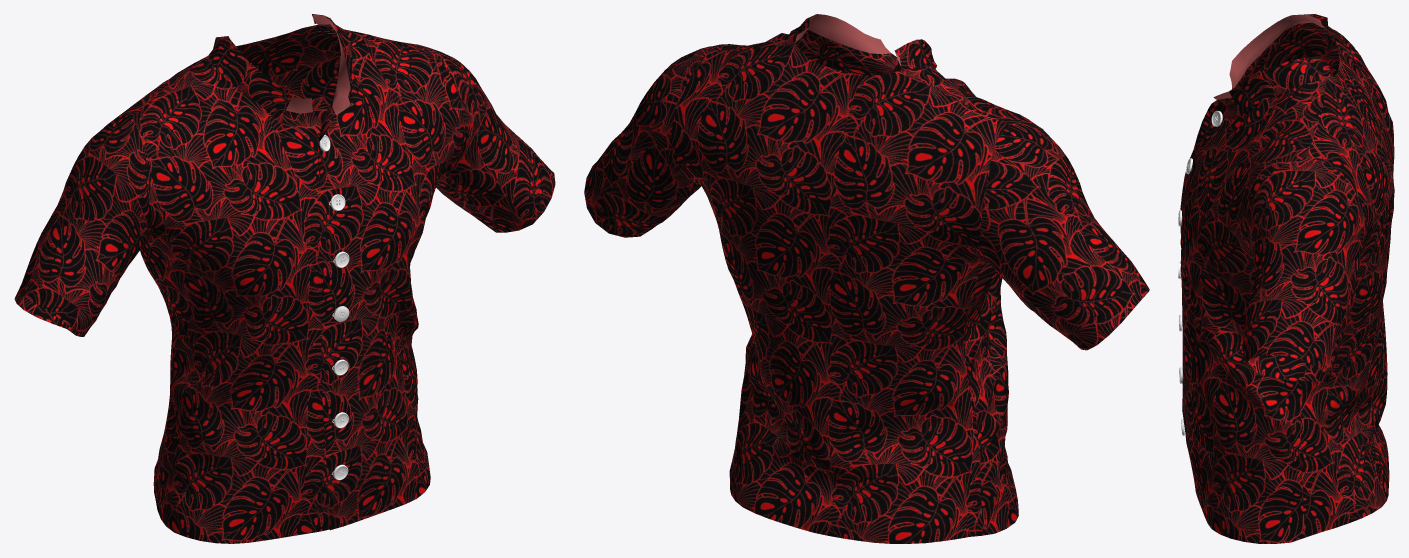
The model's file is Baju_Pendek.fbx.
The picture shows the model from 3 angles, left to right: view 1: azimuth 30°, elevation 25°; view 2: azimuth 150°, elevation 25°; view 3: azimuth 270°, elevation 25°; orthographic projection. The views are drawn at different scales.
Parts seen in each view (by area): view 1: Baju_Pendek.001; view 2: Baju_Pendek.001; view 3: Baju_Pendek.001.
Boxes of the visible parts, x1,y1,x2,y2 form: Baju_Pendek.001: [14, 14, 555, 543]; Baju_Pendek.001: [584, 14, 1149, 543]; Baju_Pendek.001: [1178, 14, 1394, 543].
Size of the model in its own units: 736 by 619 by 268.
4 materials, 2 textured.
